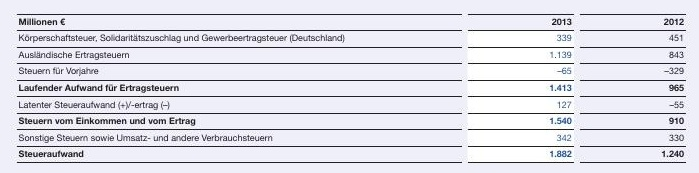table: (0, 0, 699, 173)
